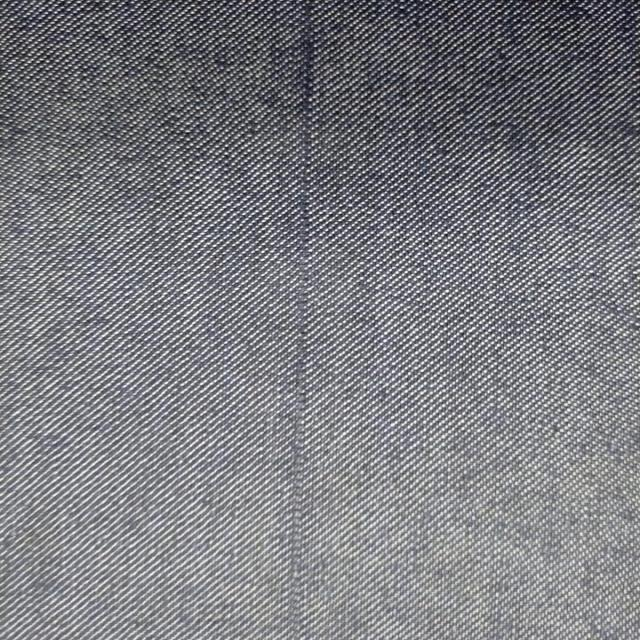Line: (288, 0, 311, 639)
